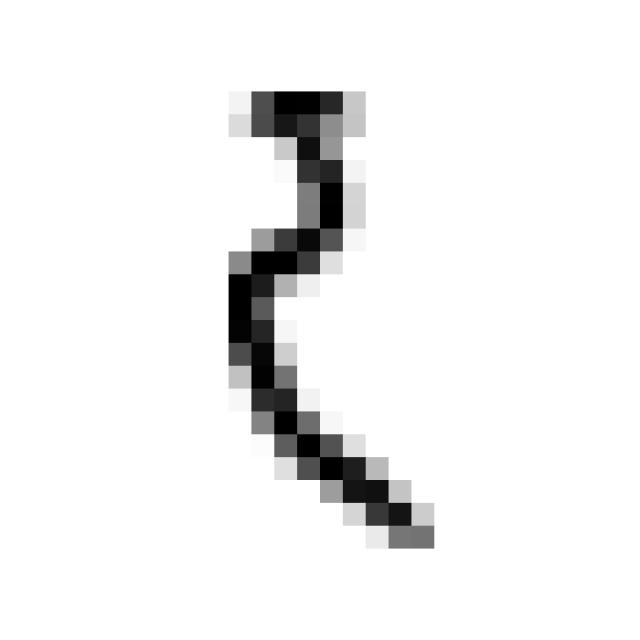4 -four-: (206, 71, 458, 569)
